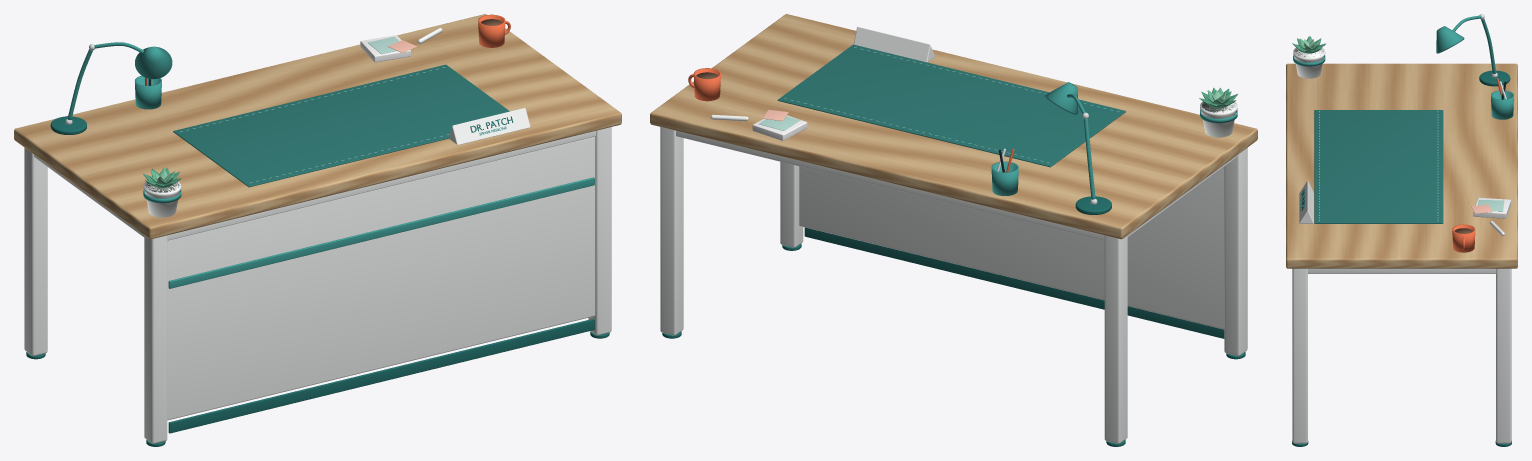
The model's file is desk.glb.
The picture shows the model from 3 angles, left to right: view 1: azimuth 30°, elevation 25°; view 2: azimuth 150°, elevation 25°; view 3: azimuth 270°, elevation 25°; orthographic projection. The views are drawn at different scales.
Parts seen in each view (by area): view 1: FrontPanel, DeskTop, Pad, PanelBase, Leg-1-1, Leg-11, PanelRail, Leg1-1, Apron, NamePlate, LampHead, Pot (+2 smaller); view 2: DeskTop, FrontPanel, Pad, Leg-11, Leg11, Leg-1-1, PanelBase, Apron, Leg1-1, NamePlate, PenCup, Pot (+3 smaller); view 3: DeskTop, Pad, Leg1-1, Leg11, Apron, Pot, PenCup, NamePlate, Mug, LampHead, Memo, LampBase (+1 smaller).
Part boxes in pixels (left/top/right/bottom): FrontPanel: left=167, top=136, right=595, bottom=420; DeskTop: left=14, top=14, right=621, bottom=239; Pad: left=173, top=64, right=509, bottom=187; PanelBase: left=168, top=318, right=594, bottom=433; Leg-1-1: left=144, top=235, right=167, bottom=443; Leg-11: left=24, top=147, right=47, bottom=356; PanelRail: left=168, top=177, right=594, bottom=288; Leg1-1: left=588, top=127, right=611, bottom=335; Apron: left=34, top=131, right=595, bottom=240; NamePlate: left=449, top=108, right=530, bottom=144; LampHead: left=135, top=46, right=172, bottom=79; Pot: left=143, top=181, right=181, bottom=217; DeskTop: left=650, top=14, right=1257, bottom=239; FrontPanel: left=799, top=166, right=1224, bottom=329; Pad: left=777, top=44, right=1125, bottom=167; Leg-11: left=1104, top=235, right=1127, bottom=443; Leg11: left=660, top=127, right=683, bottom=335; Leg-1-1: left=1224, top=147, right=1247, bottom=356; PanelBase: left=804, top=227, right=1224, bottom=338; Apron: left=676, top=131, right=1237, bottom=240; Leg1-1: left=780, top=162, right=803, bottom=247; NamePlate: left=853, top=27, right=934, bottom=62; PenCup: left=991, top=161, right=1018, bottom=195; Pot: left=1200, top=101, right=1237, bottom=137; DeskTop: left=1286, top=63, right=1517, bottom=268; Pad: left=1314, top=110, right=1443, bottom=223; Leg1-1: left=1292, top=268, right=1307, bottom=443; Leg11: left=1496, top=268, right=1511, bottom=443; Apron: left=1307, top=268, right=1496, bottom=273; Pot: left=1293, top=47, right=1325, bottom=78; PenCup: left=1491, top=90, right=1513, bottom=119; NamePlate: left=1299, top=180, right=1313, bottom=223; Mug: left=1452, top=224, right=1475, bottom=252; LampHead: left=1436, top=26, right=1464, bottom=53; Memo: left=1473, top=197, right=1510, bottom=218; LampBase: left=1479, top=70, right=1510, bottom=86.
Size of the model in its own units: 18 by 11.43 by 9.
19 materials, 1 textured.
